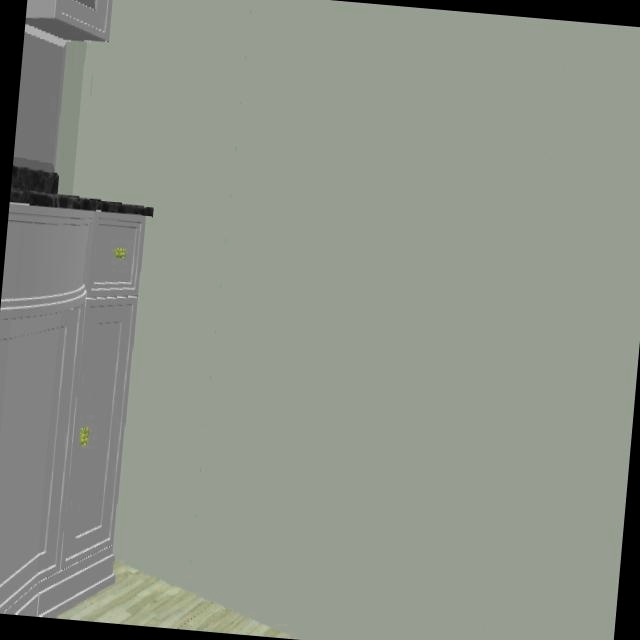cabinet: (0, 196, 152, 618), (24, 0, 113, 49)
washbasin: (9, 158, 146, 212)
